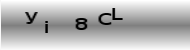8: (74, 17, 88, 30)
C: (97, 12, 112, 25)
L: (111, 7, 124, 20)
i: (43, 19, 50, 34)
y: (24, 10, 38, 25)
